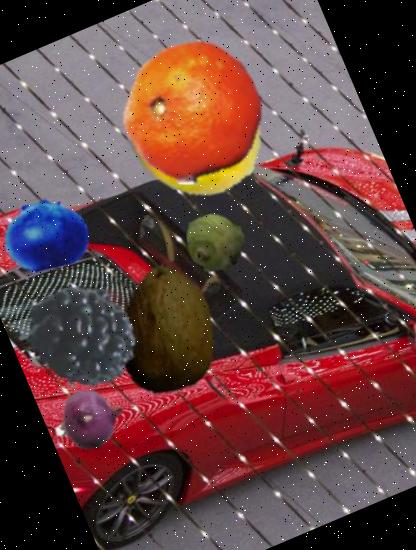Clementine: (98, 16, 288, 207)
Huckleberry: (0, 179, 101, 290)
Kohlrabi: (172, 200, 256, 283)
Maracuja: (108, 38, 290, 218)
Mulberry: (3, 233, 192, 422)
Onion: (42, 372, 138, 468)
Papaya: (82, 243, 255, 416)
